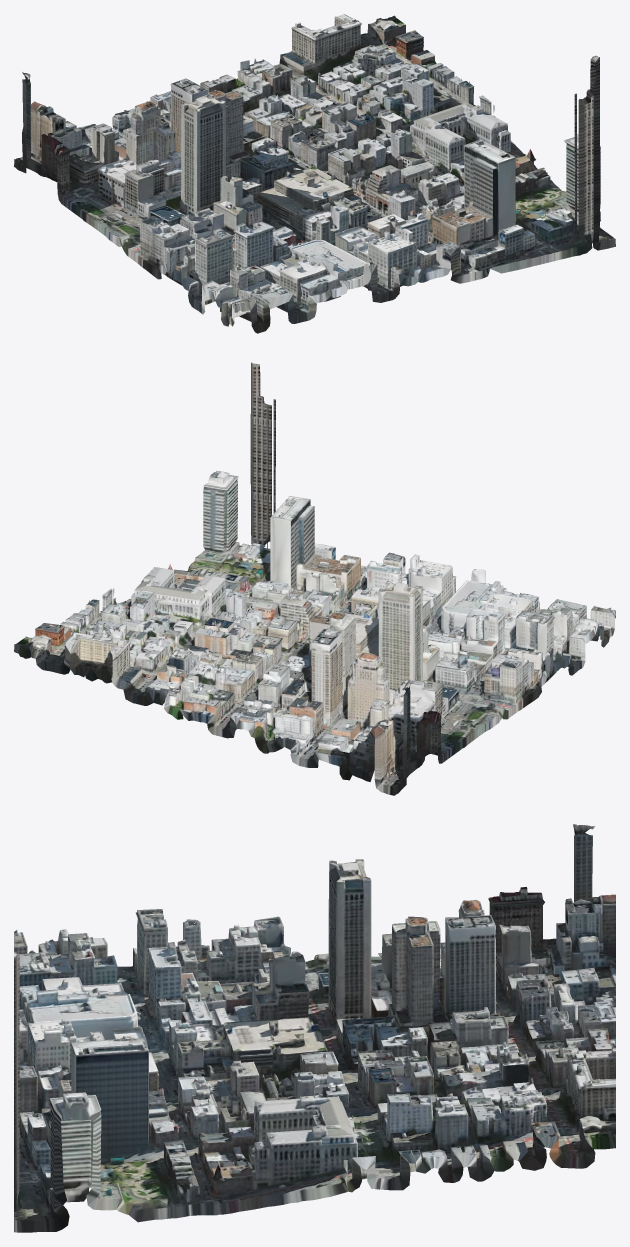
Rendered from z16-10484-25327-h0-yup-uvflip-v3-world.glb.
The picture shows the model from 3 angles, top to bottom: view 1: azimuth 30°, elevation 25°; view 2: azimuth 150°, elevation 25°; view 3: azimuth 270°, elevation 25°; orthographic projection. The views are drawn at different scales.
Size of the model in its own units: 484 by 237 by 485.
1 material, 1 textured.
